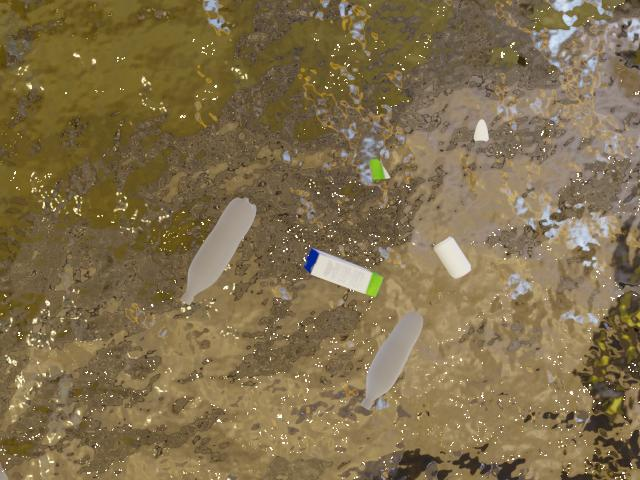Metal: (429, 234, 483, 282), (473, 114, 492, 146)
Plastic: (160, 175, 274, 325), (358, 315, 429, 412)
Trash: (300, 240, 392, 304), (360, 156, 399, 184)
